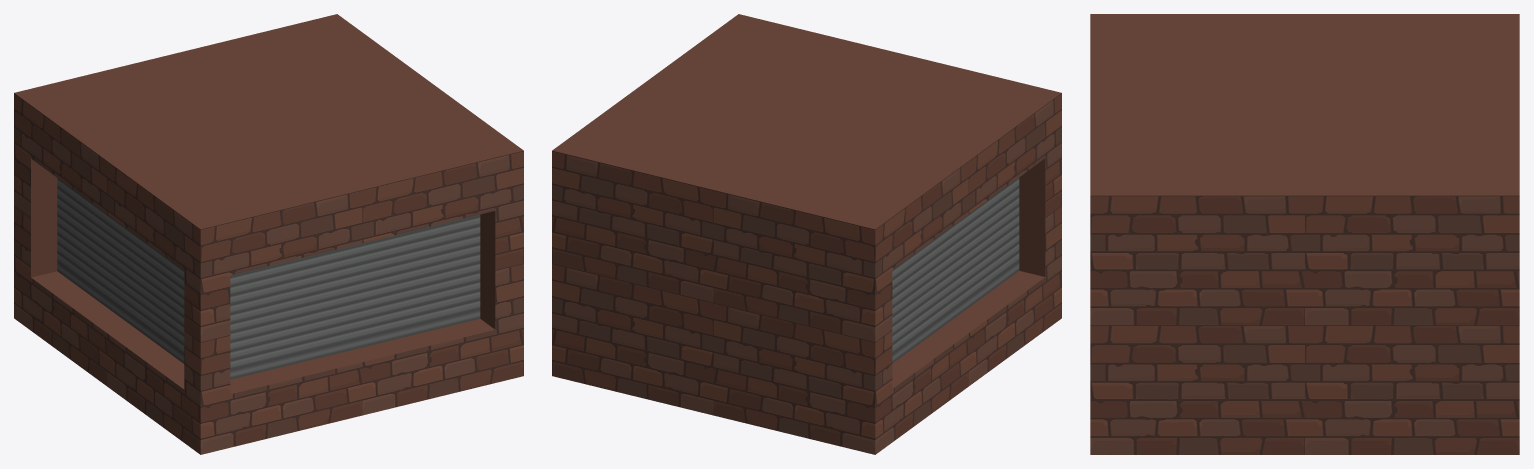
The model's file is Bock_B2.fbx.
The picture shows the model from 3 angles, left to right: view 1: azimuth 30°, elevation 25°; view 2: azimuth 150°, elevation 25°; view 3: azimuth 270°, elevation 25°; orthographic projection. The views are drawn at different scales.
Parts seen in each view (by area): view 1: Bock_B2; view 2: Bock_B2; view 3: Bock_B2.
Boxes of the visible parts, left/top/right/bottom form: Bock_B2: left=14, top=14, right=523, bottom=454; Bock_B2: left=552, top=14, right=1061, bottom=454; Bock_B2: left=1090, top=14, right=1519, bottom=454.
Size of the model in its own units: 600 by 400 by 600.
